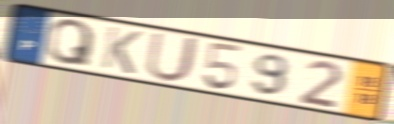2: (298, 58, 346, 111)
5: (202, 41, 244, 92)
9: (248, 53, 295, 97)
K: (98, 24, 144, 76)
Q: (46, 18, 97, 69)
U: (143, 30, 202, 84)
